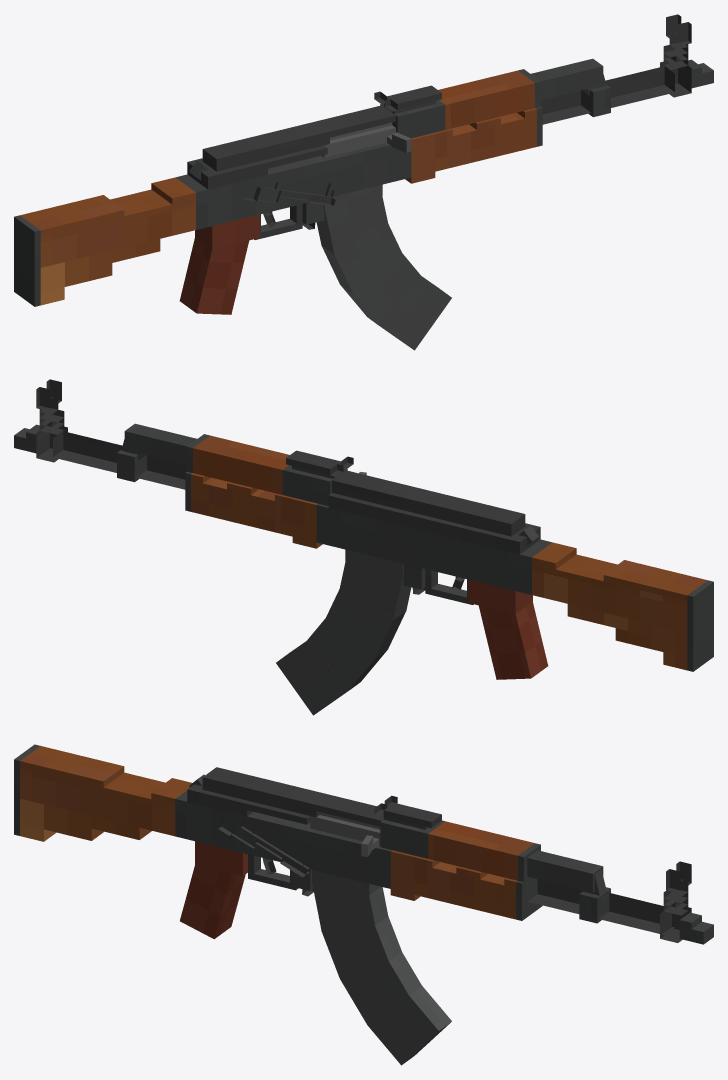
The picture shows the model from 3 angles, top to bottom: view 1: azimuth 30°, elevation 25°; view 2: azimuth 150°, elevation 25°; view 3: azimuth 330°, elevation 25°; orthographic projection.
Visible parts, largest first — view 1: AKM, AKM magazine (metal); view 2: AKM, AKM magazine (metal); view 3: AKM, AKM magazine (metal).
Boxes of the visible parts, x1,y1,x2,y2 form: AKM: [14, 14, 713, 314]; AKM magazine (metal): [316, 184, 451, 350]; AKM: [14, 379, 713, 679]; AKM magazine (metal): [276, 549, 411, 715]; AKM: [14, 744, 713, 944]; AKM magazine (metal): [312, 870, 451, 1065].
Bounding box in the file's own units: 33.6 × 12.14 × 2.8.
Materials: 2 (2 with a texture image).
